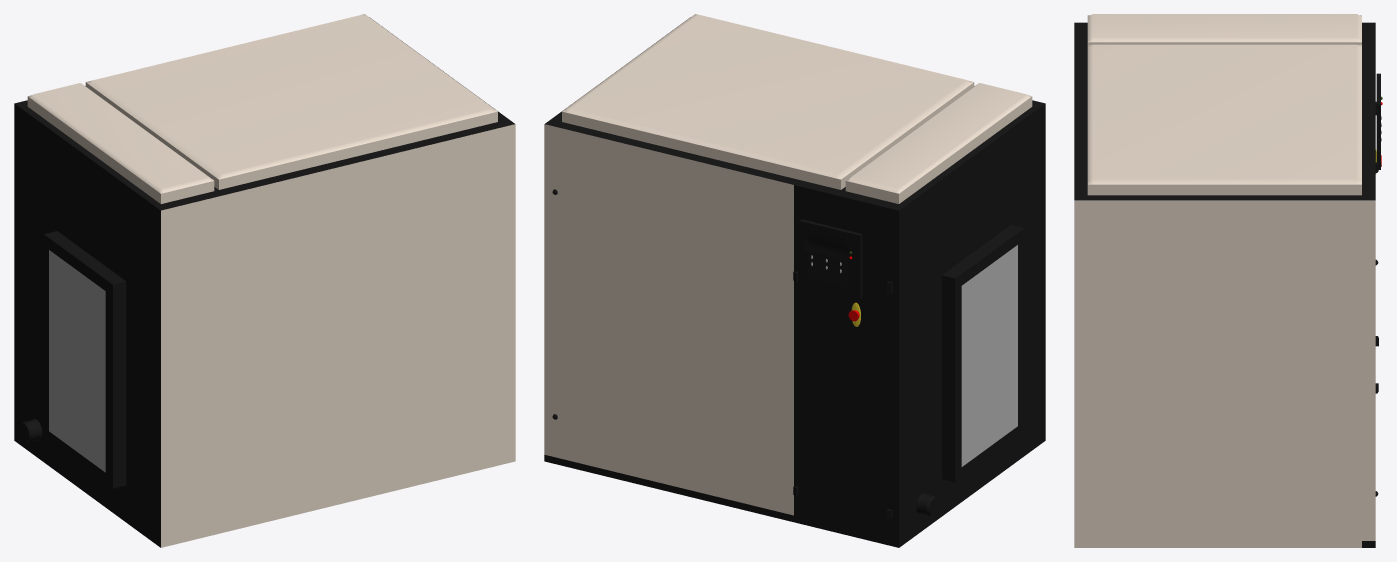
File: Aircom.glb
3 views of the same model, side by side, from view 1: azimuth 30°, elevation 25°; view 2: azimuth 150°, elevation 25°; view 3: azimuth 270°, elevation 25° (orthographic). The views are drawn at different scales.
Bounding box in the file's own units: 1.72 × 1.56 × 1.21.
